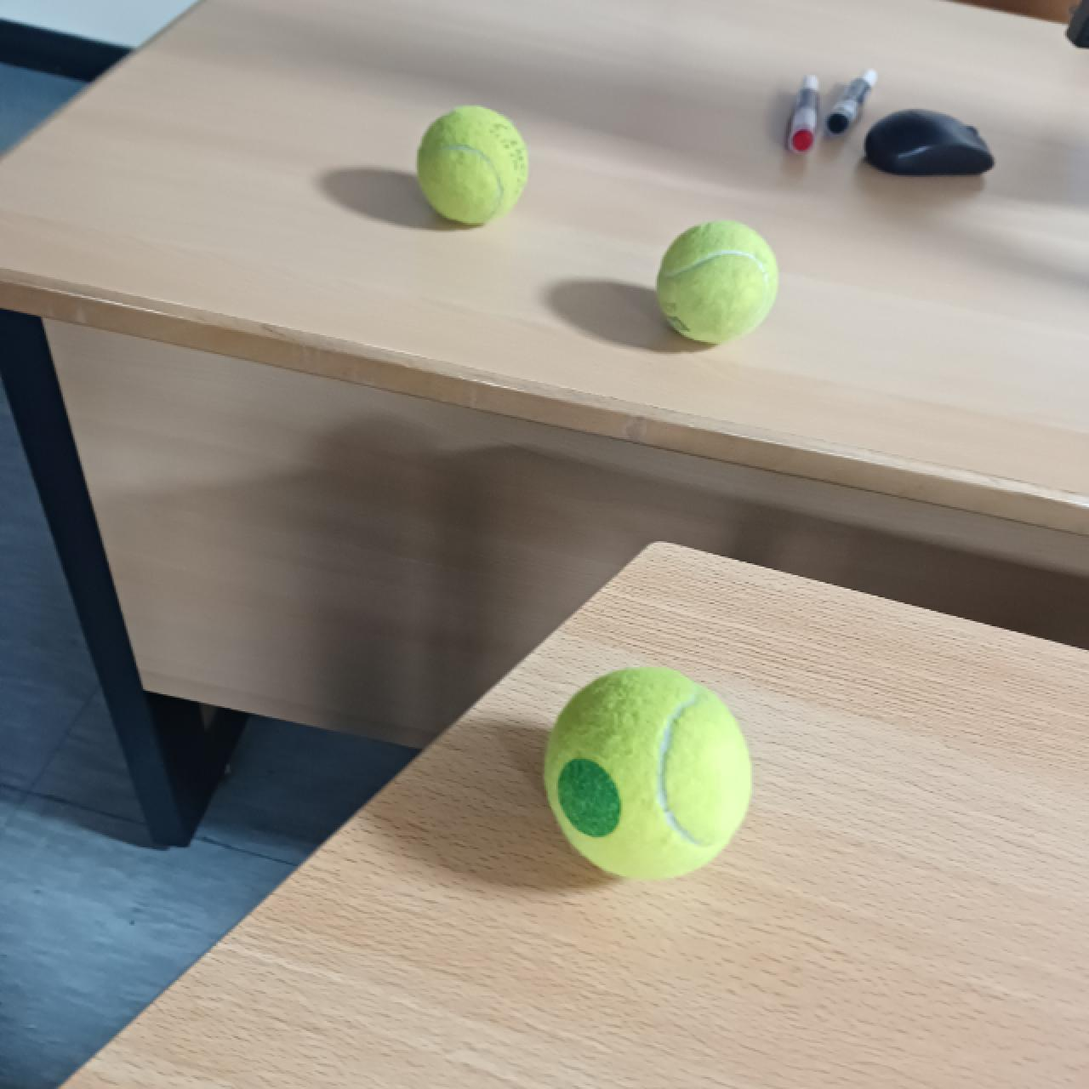tennis-ball: (543, 664, 752, 883), (654, 218, 778, 347), (415, 105, 532, 227)
